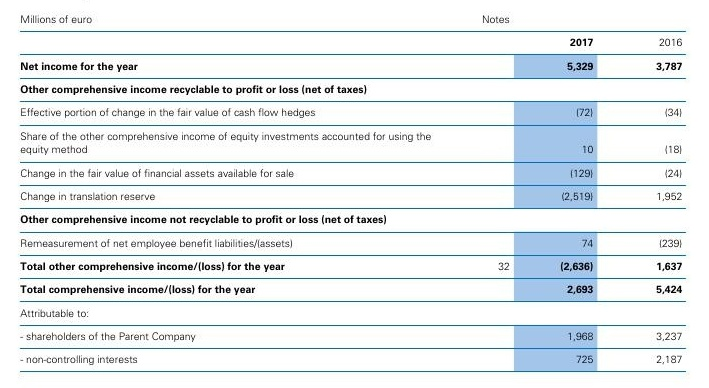table: (0, 0, 709, 388)
